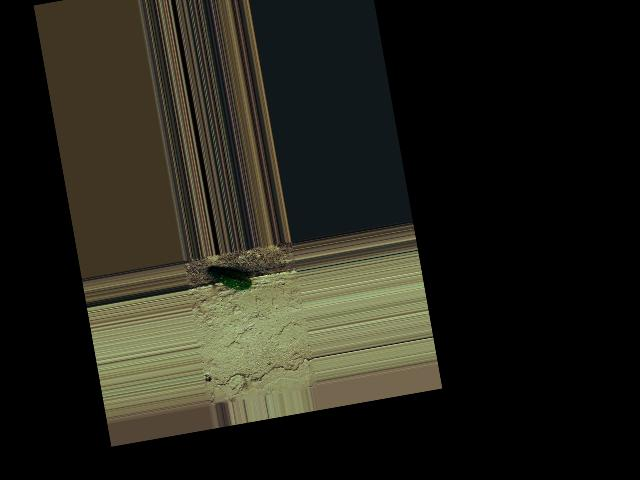cucumber: (208, 261, 253, 295)
